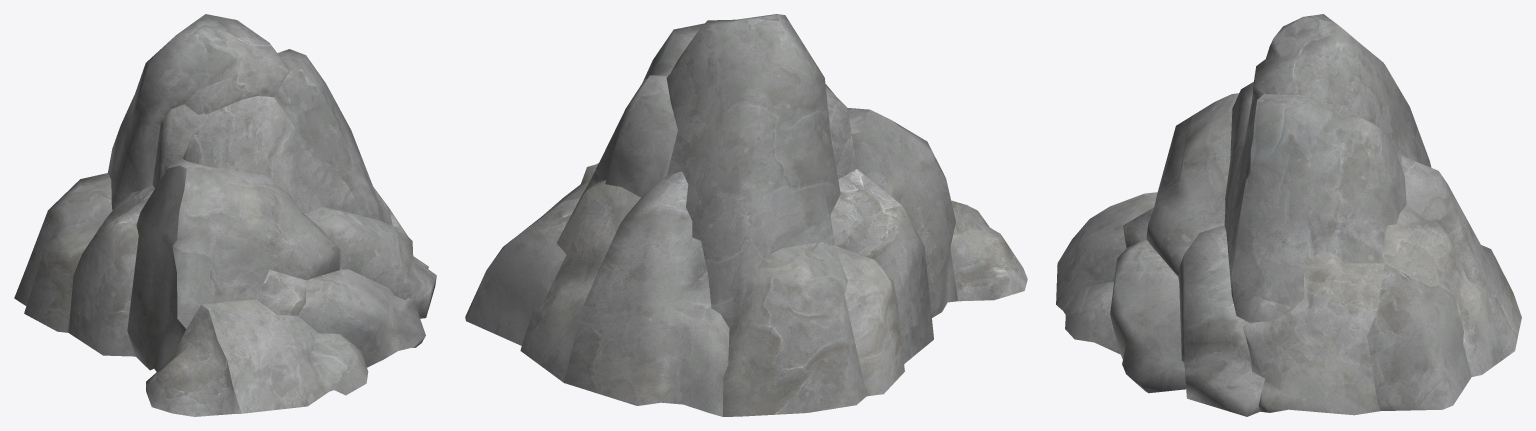
Rendered from SM_Com_Roc_52AS.fbx.
3 views of the same model, side by side, from view 1: azimuth 30°, elevation 25°; view 2: azimuth 150°, elevation 25°; view 3: azimuth 270°, elevation 25° (orthographic). The views are drawn at different scales.
Parts seen in each view (by area): view 1: SM_Com_Roc_52AS.mo; view 2: SM_Com_Roc_52AS.mo; view 3: SM_Com_Roc_52AS.mo.
Boxes of the visible parts, x1,y1,x2,y2 form: SM_Com_Roc_52AS.mo: (14,14,436,416); SM_Com_Roc_52AS.mo: (465,14,1027,416); SM_Com_Roc_52AS.mo: (1056,14,1521,416).
Bounding box in the file's own units: 7.45 × 5.92 × 8.19.
